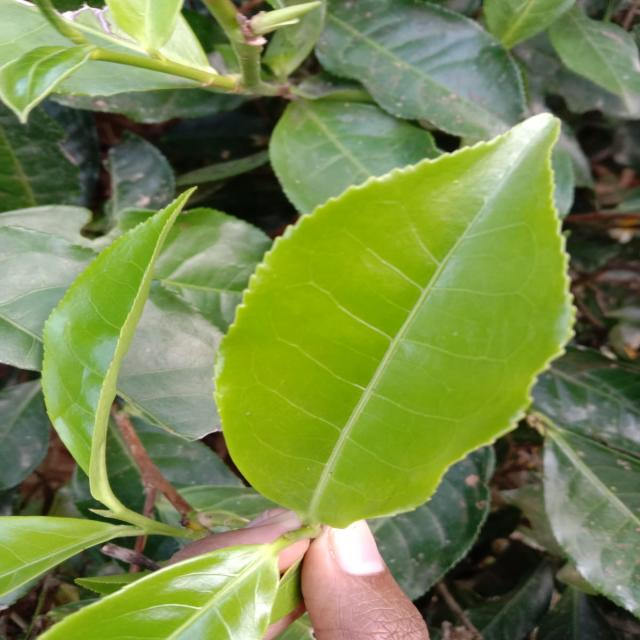Category C 4-7 days: (189, 92, 602, 552)
